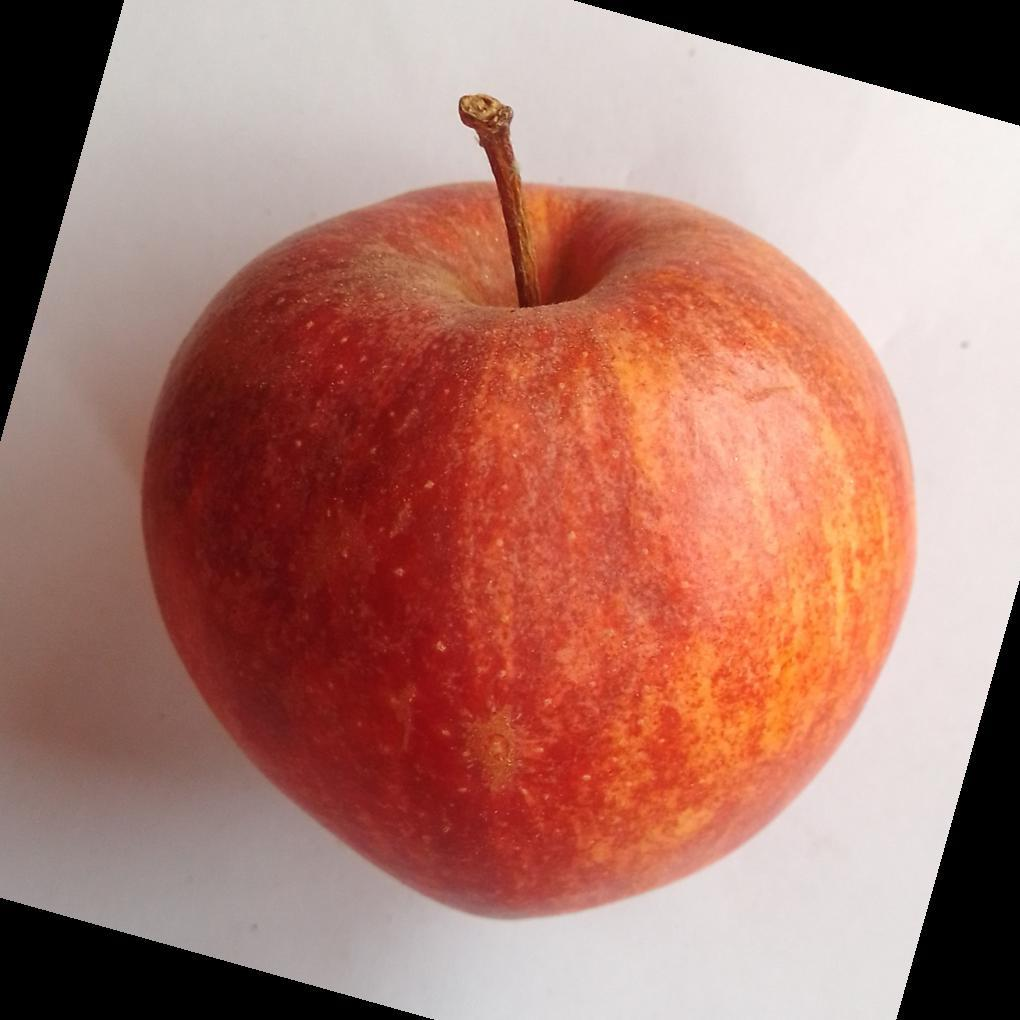FreshGuava: (137, 100, 918, 925)
